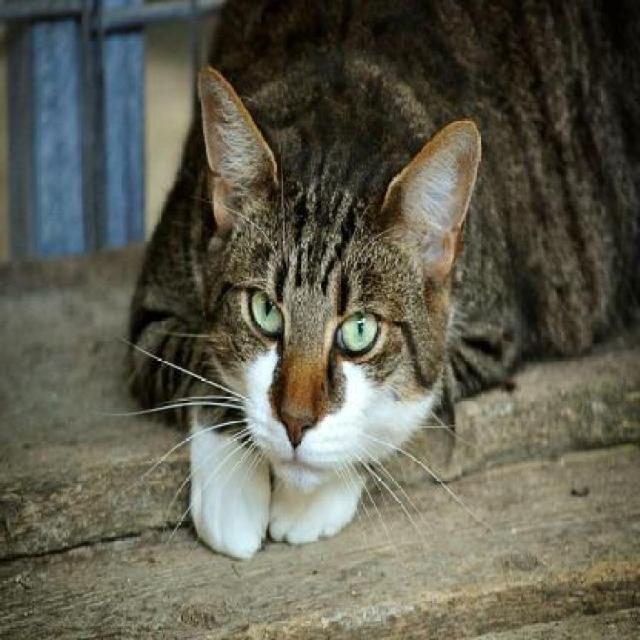cat: (149, 0, 640, 531)
